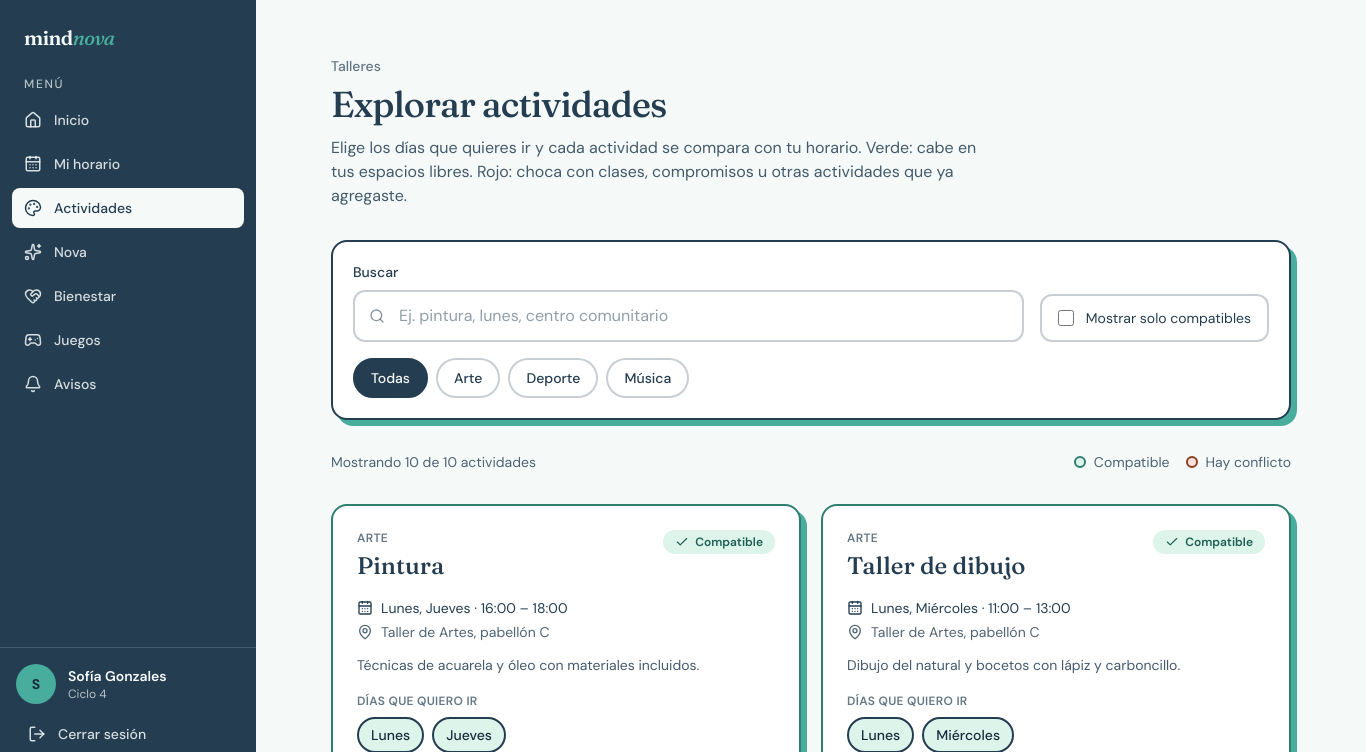
Scenario: Explorar actividades › filtra por búsqueda ignorando tildes y por interés
Type "musica" into the search field labelled "Buscar" at (688, 316), box [353, 290, 1024, 342]
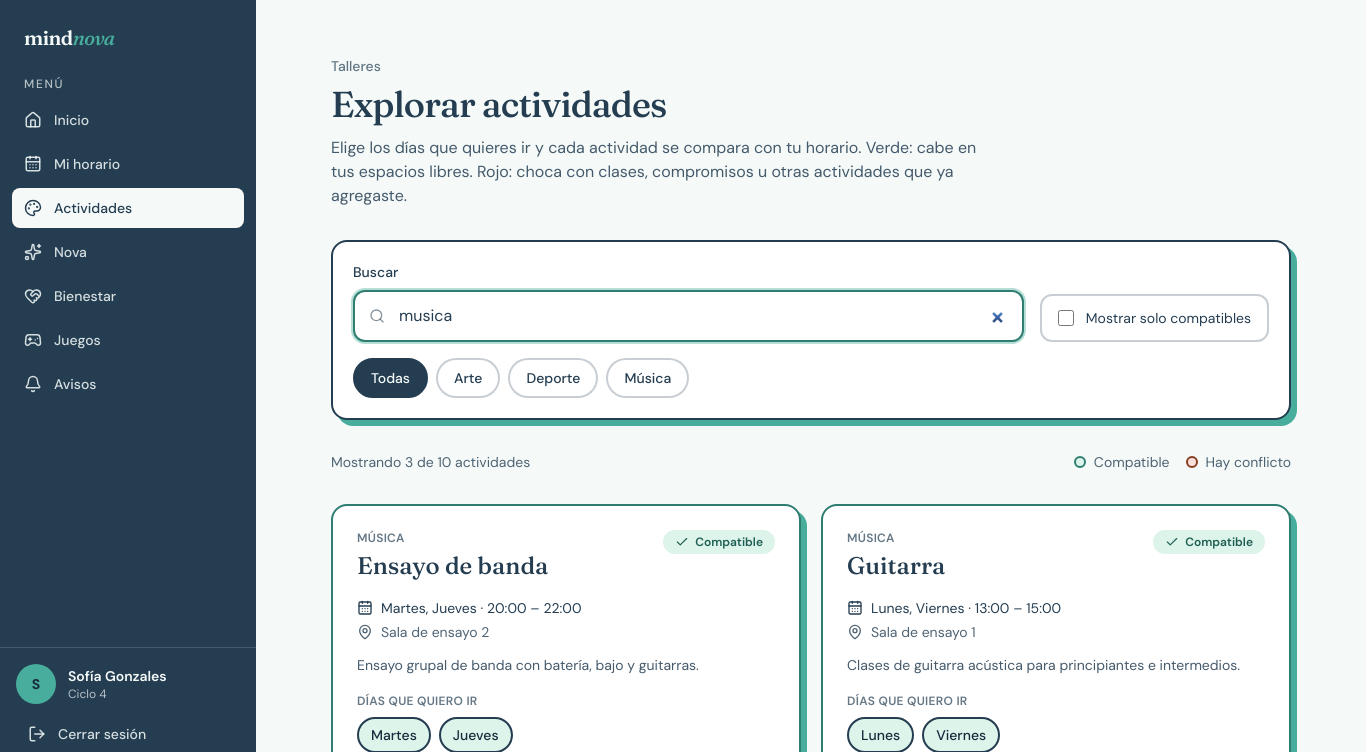
expect the message reads "Mostrando 3 de 10 actividades": met, box [331, 452, 530, 472]
Clear the search field labelled "Buscar" at (688, 316), box [353, 290, 1024, 342]
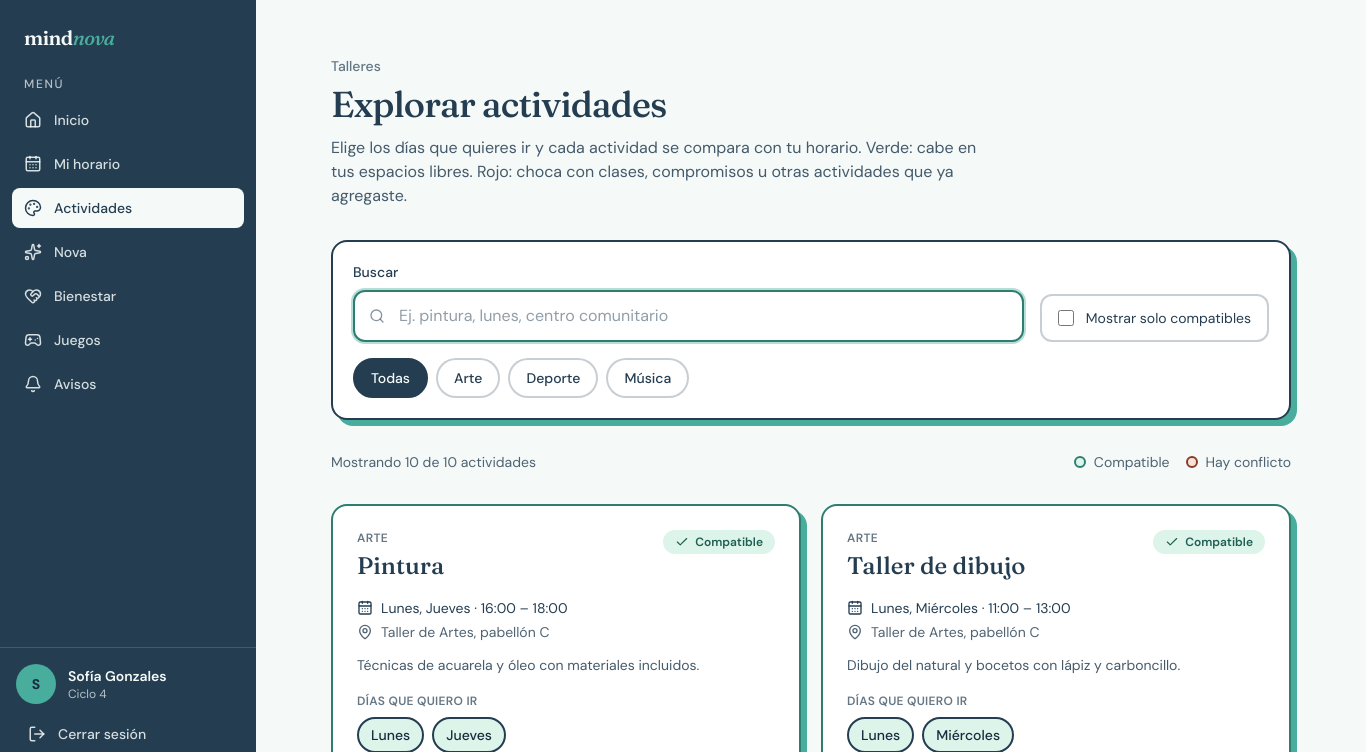
Click the button "Deporte" at (553, 378), box [508, 358, 598, 398]
(page scrolled)
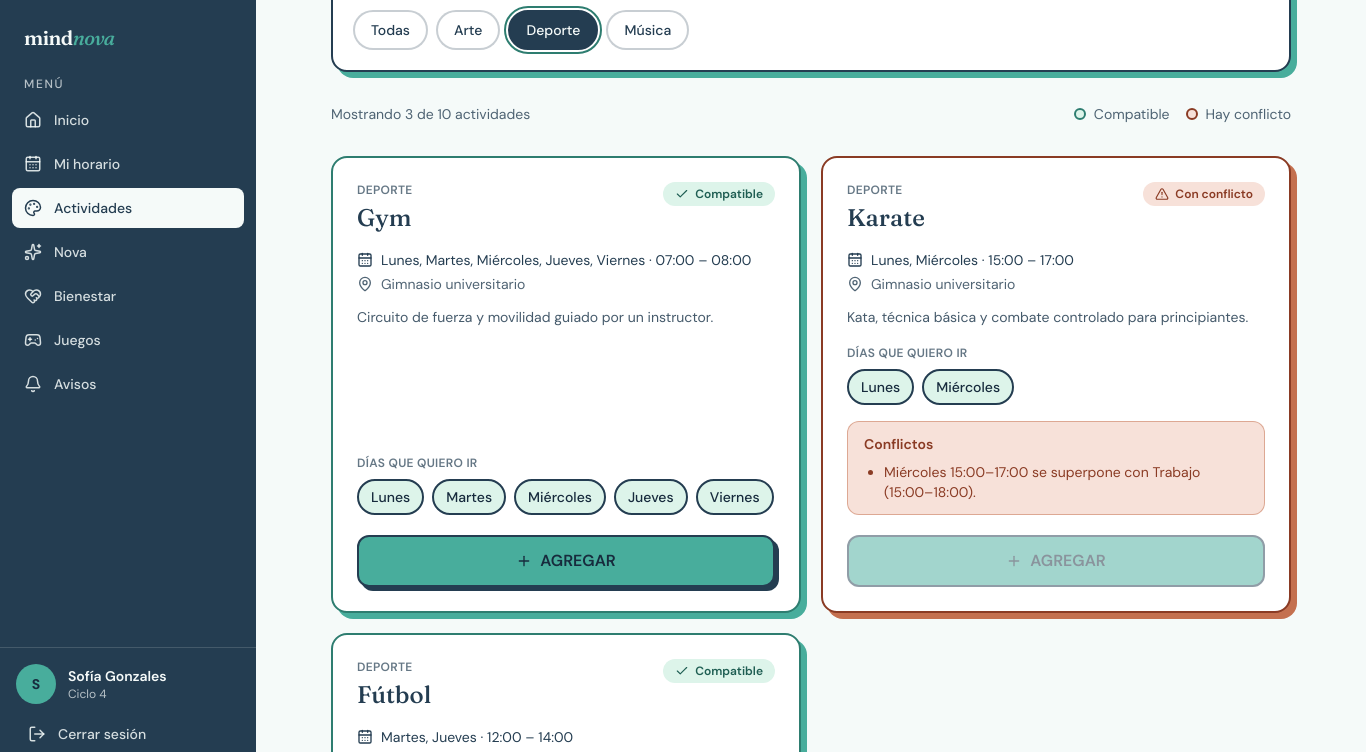
expect the element "Karate" is shown: met, box [821, 156, 1291, 613]
expect the message reads "Mostrando 3 de 10 actividades": met, box [331, 104, 530, 124]
